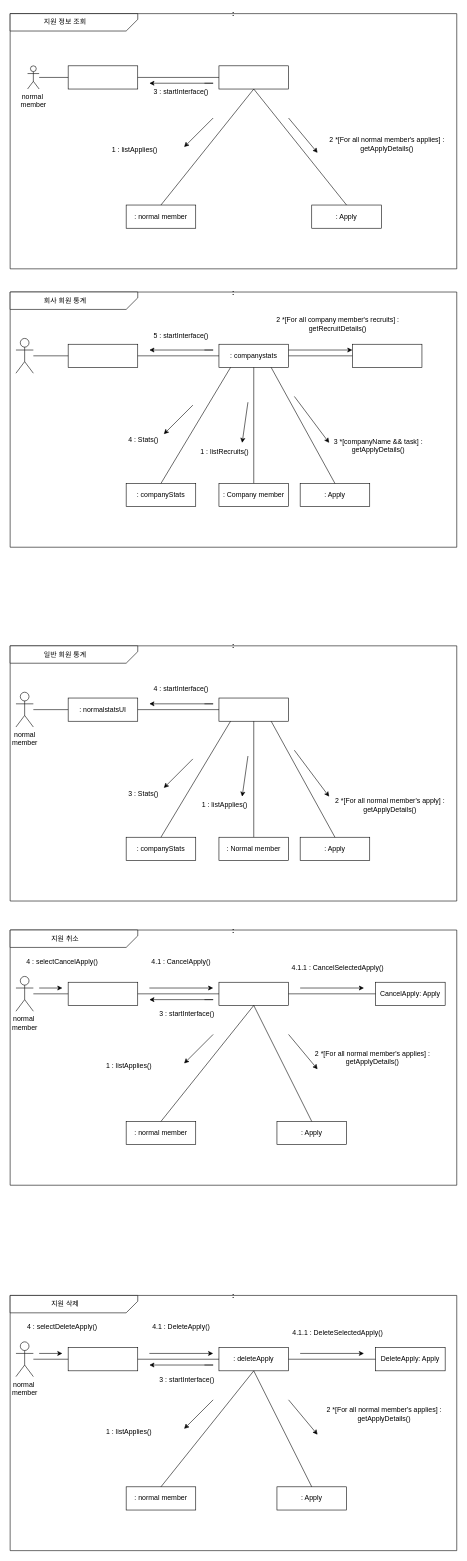
This 467x1561 diagram has some shape labels left out. The centre of each missing label's shape, as x and y in pixels:
": cancelApply" goes at [253,993].
": cancelApplyUI" goes at [103,993].
": companystatsUI" goes at [103,355].
": deleteApplyUI" goes at [103,1359].
": normalstats" goes at [253,709].
": Recruit" goes at [387,355].
": viewApply" goes at [253,77].
": viewApplyUI" goes at [103,77].
"company member" goes at [24,355].
